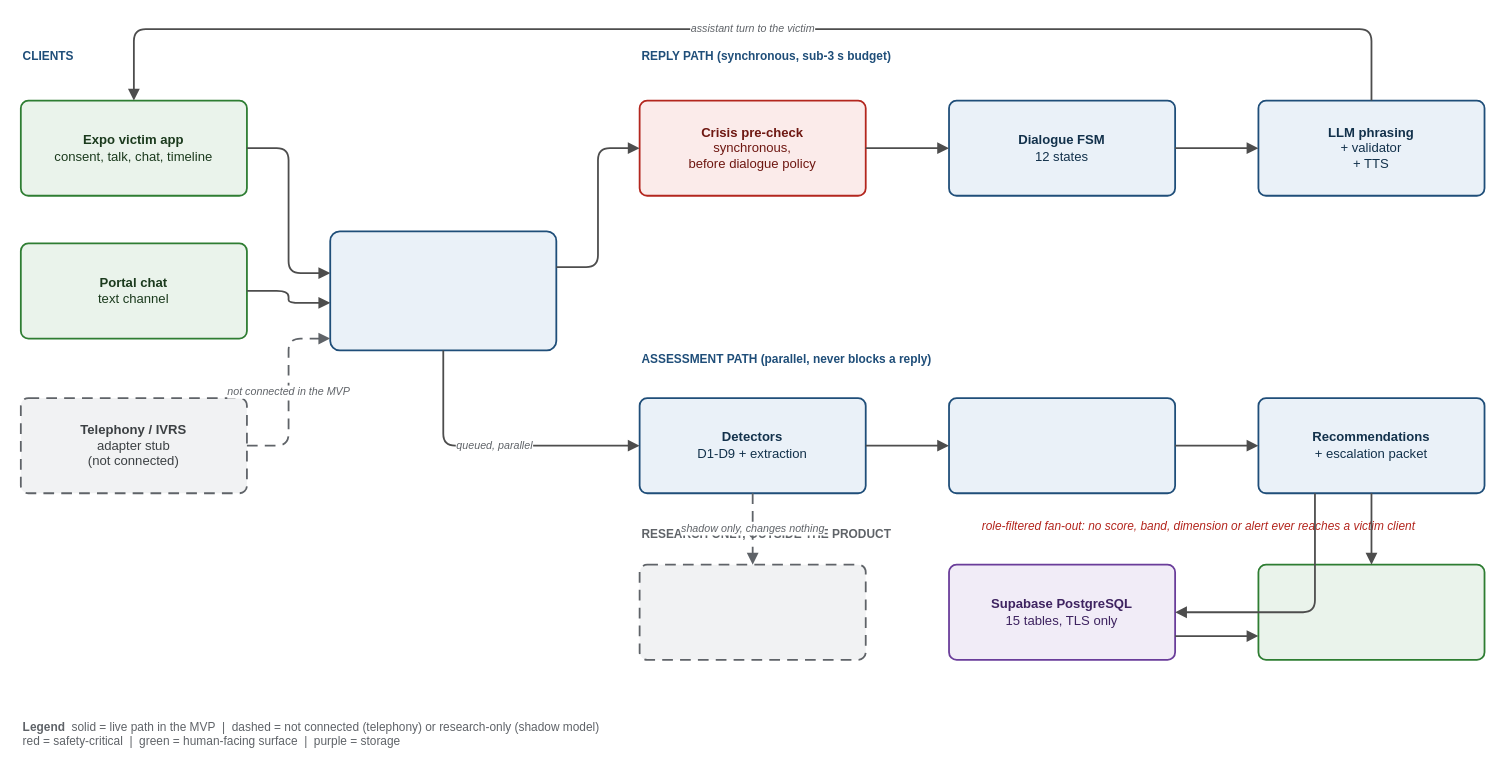
Some shapes in this 1507 by 781 pixel diagram are drawn without their labels. The box of each missing label's shape, as (x1, y1, x2, y2) in pixels:
Executive console queue, packet, decisions, audit: (1257, 563, 1485, 660)
MuRIL shadow model research CLI only: (638, 563, 866, 660)
Session gateway - FastAPI auth, consent, turn orchestration: (329, 230, 557, 351)
SVI engine overrides, abstention: (948, 397, 1175, 494)
